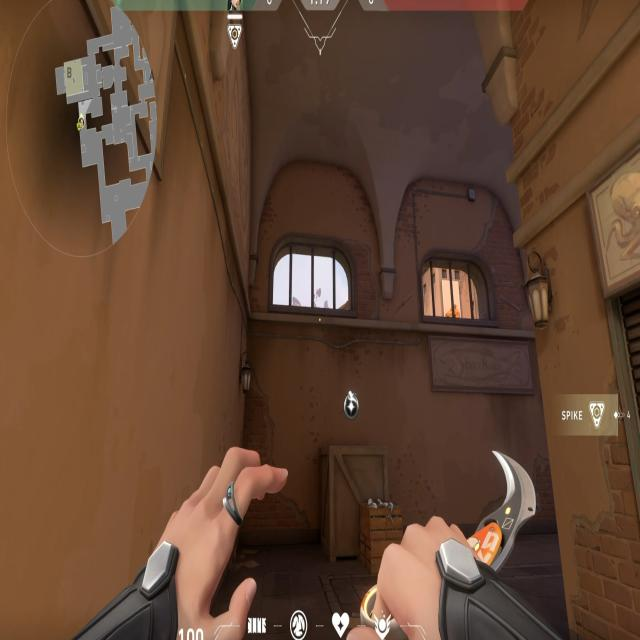B_Main_Wallbang: (276, 385, 370, 536)
Throwables: (266, 226, 361, 326), (418, 242, 500, 327)
